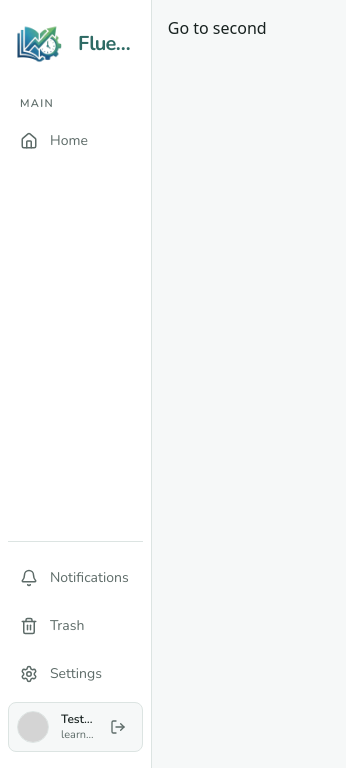
AppShell environment › keeps the shell mounted while route metadata and content change
Step 1. Click the link "Go to second" → (217, 28), box [168,17,267,39]
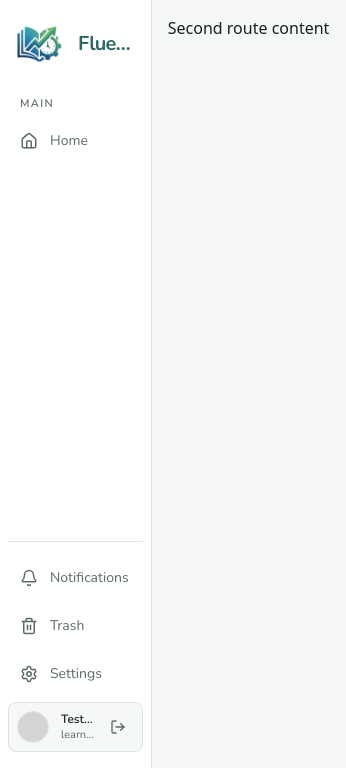
Now the text "Second route content" is shown, box [168,17,329,39]
